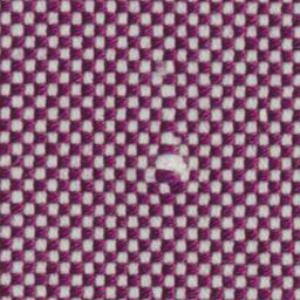defect: (149, 57, 196, 199)
